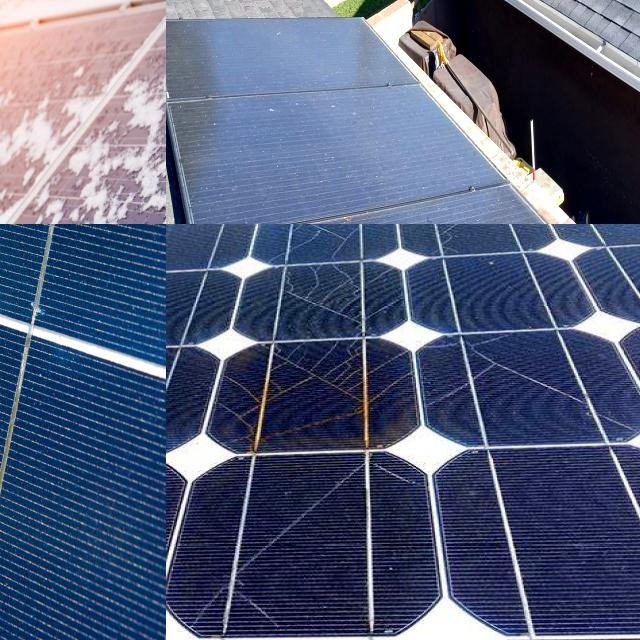crack: (0, 224, 166, 640)
dust: (300, 92, 410, 214), (203, 95, 285, 224), (280, 20, 360, 88), (175, 27, 262, 89)
panel: (38, 161, 123, 224), (67, 0, 166, 49), (105, 141, 166, 219), (0, 98, 76, 152), (0, 157, 55, 224), (125, 68, 166, 143), (0, 0, 49, 46)
shadow: (216, 302, 411, 478)
